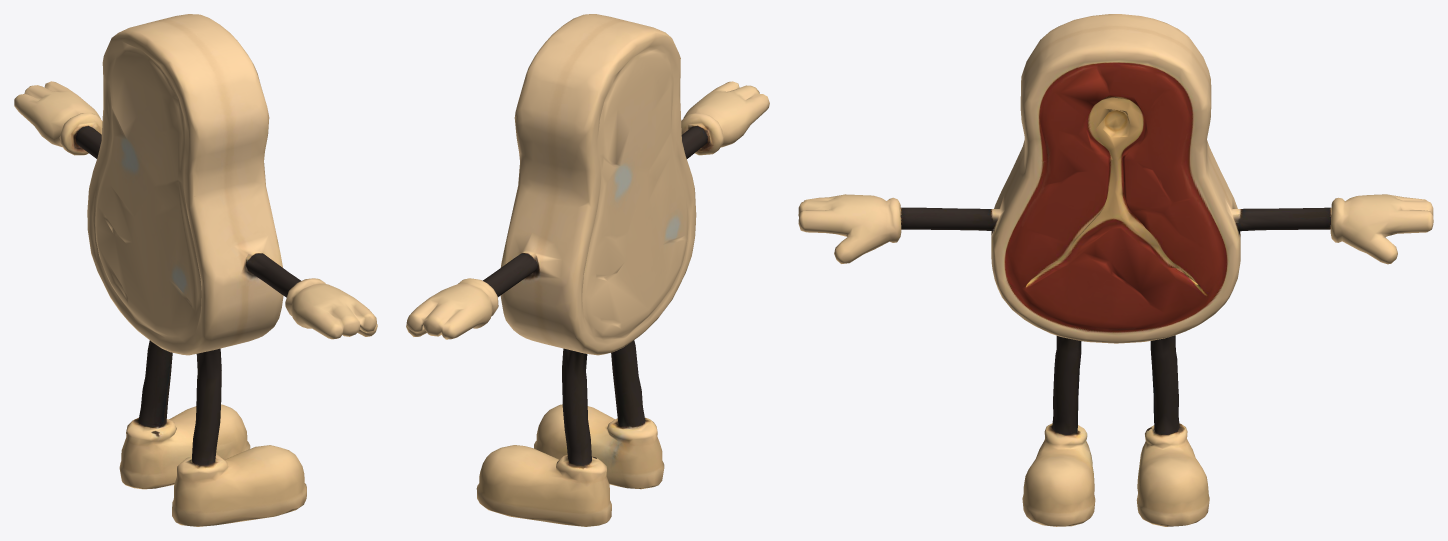
Rendered from SteakPsj.fbx.
The picture shows the model from 3 angles, left to right: view 1: azimuth 30°, elevation 25°; view 2: azimuth 150°, elevation 25°; view 3: azimuth 270°, elevation 25°; orthographic projection.
Visible parts, largest first — view 1: tripo_node_ff4c7f15; view 2: tripo_node_ff4c7f15; view 3: tripo_node_ff4c7f15.
Boxes of the visible parts, x1,y1,x2,y2 form: tripo_node_ff4c7f15: (14, 14, 377, 526); tripo_node_ff4c7f15: (406, 14, 769, 526); tripo_node_ff4c7f15: (798, 14, 1433, 526).
Bounding box in the file's own units: 0.2312 × 0.7998 × 0.9996.
1 material, 1 textured.
